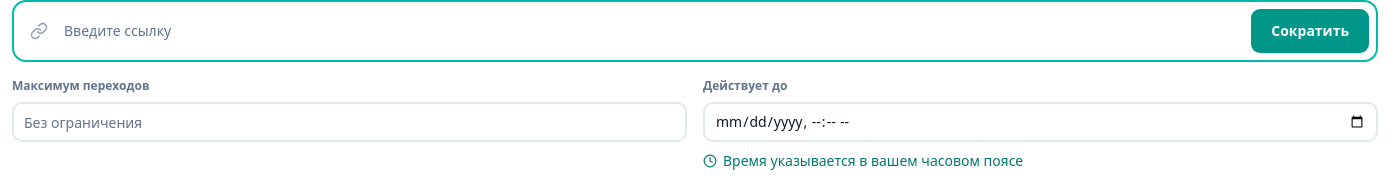
Scenario: CreateLinkForm › accepts only digits in the max clicks field
Type "a-1b.2,3 e" into the field labelled "Максимум переходов" at (350, 122), box [12,102,687,142]
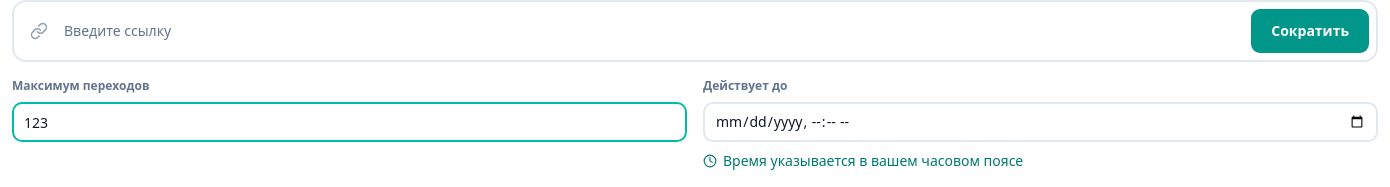
expect the field labelled "Максимум переходов" holds "123": met, box [12,102,687,142]
